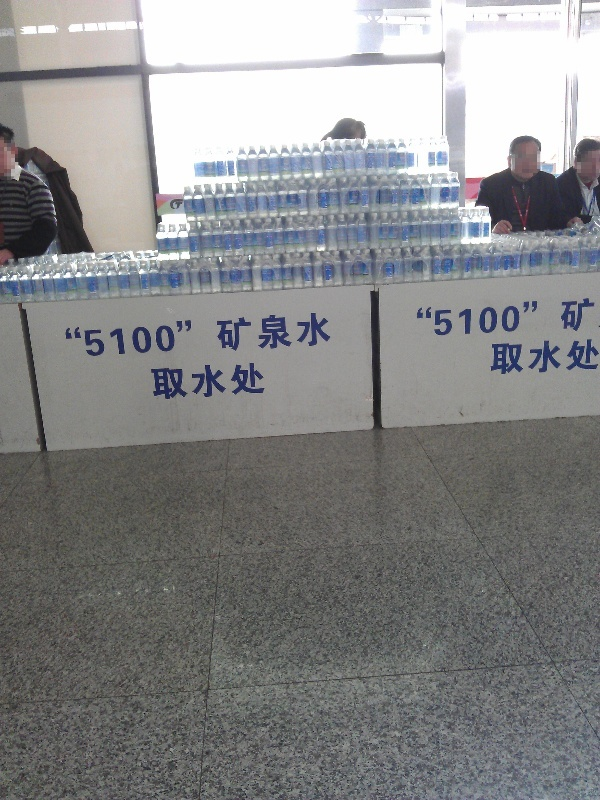text: (65, 309, 80, 362), (81, 309, 96, 362), (97, 309, 112, 362), (113, 309, 128, 362), (129, 309, 144, 362), (145, 309, 160, 362), (161, 309, 176, 362), (177, 309, 192, 362), (193, 309, 208, 362), (209, 309, 224, 362), (225, 309, 240, 362), (241, 309, 256, 362), (257, 309, 272, 362), (273, 309, 288, 362), (289, 309, 304, 362), (305, 309, 320, 362), (417, 296, 432, 342), (433, 296, 448, 342), (449, 296, 464, 342), (465, 296, 480, 342), (481, 296, 496, 342), (497, 296, 512, 342), (513, 296, 528, 342), (529, 296, 544, 342), (545, 296, 560, 342), (561, 296, 576, 342), (577, 296, 592, 342), (321, 309, 334, 362), (161, 361, 176, 403), (177, 361, 192, 403), (193, 361, 208, 403), (209, 361, 224, 403), (225, 361, 240, 403), (241, 361, 256, 403), (497, 336, 512, 377), (513, 336, 528, 377), (529, 336, 544, 377), (545, 336, 560, 377), (561, 336, 576, 377), (577, 336, 592, 377), (151, 361, 160, 403), (257, 361, 266, 403), (490, 336, 496, 377), (593, 336, 599, 377), (593, 296, 597, 342), (61, 309, 64, 362), (415, 296, 416, 342)
